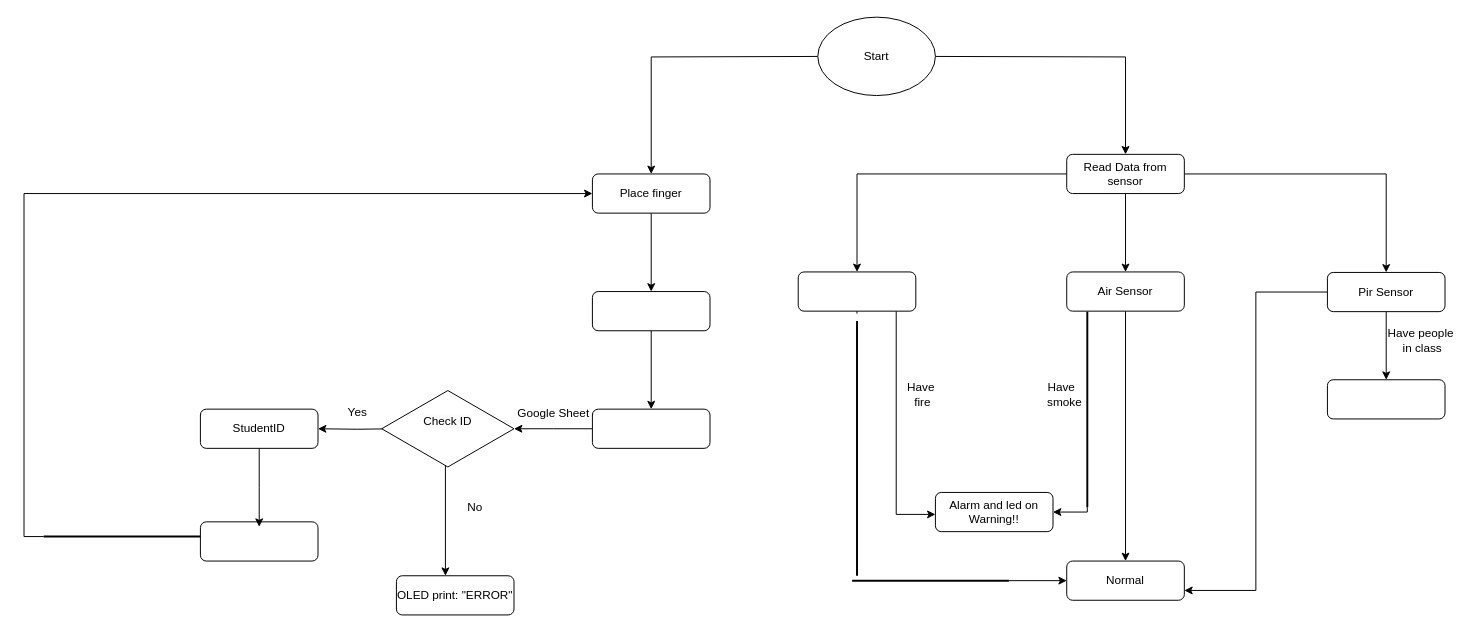
Image size: 1482x632. Some labels were removed from this diagram. Here are the shapes that lost their labels. From the top down, the box of each, then its label:
(591, 291, 710, 331): Get ID by finger
(797, 271, 916, 311): Fire sensor
(1326, 379, 1445, 419): Turn on the led, air condition
(591, 408, 710, 448): ESP 8266
(199, 521, 318, 561): Post student ID, Name Date/time
